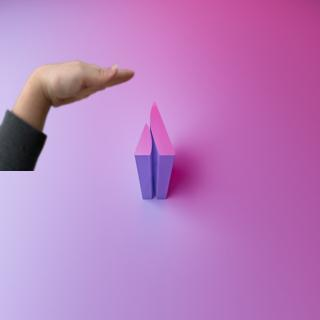Wait: (17, 55, 138, 116)
